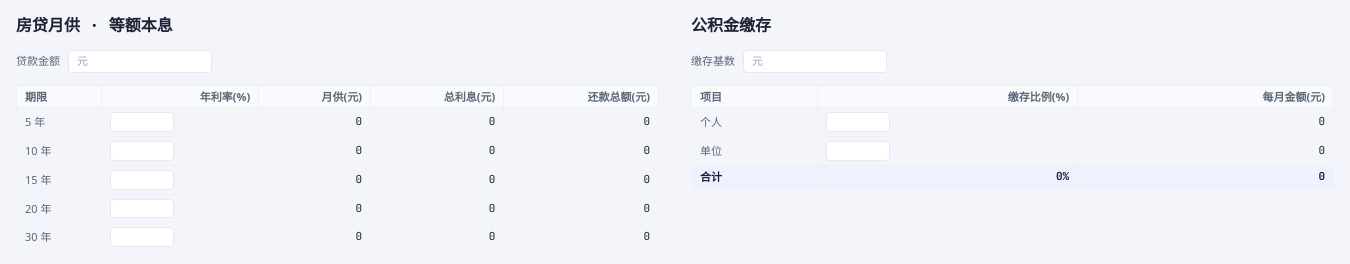
CalculatorView › 改公积金基数与比例 → 个人/单位/合计与比例合计更新
Type "10000" into the number field with test id "calc-fund-base" at (815, 61), box [743,50,887,72]
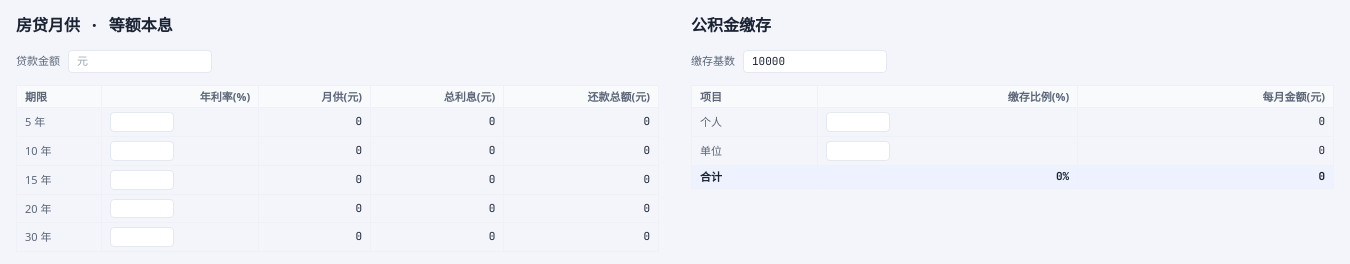
Type "12" into the number field with test id "calc-personal-rate" at (858, 122), box [826,112,890,132]
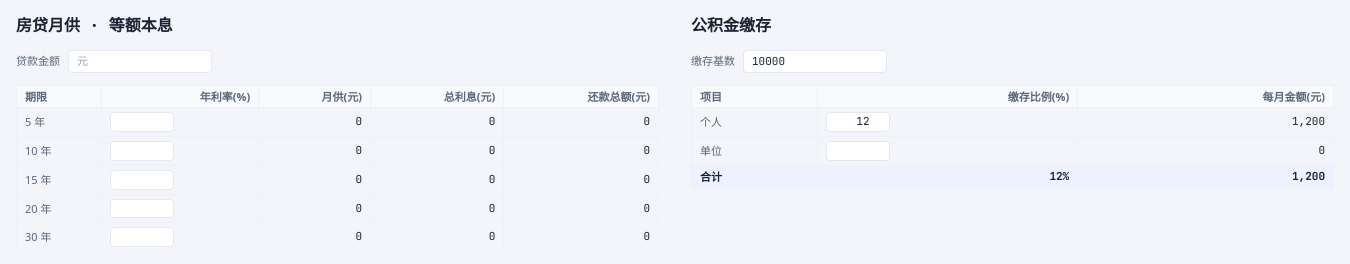
Type "12" into the number field with test id "calc-employer-rate" at (858, 151), box [826,141,890,161]
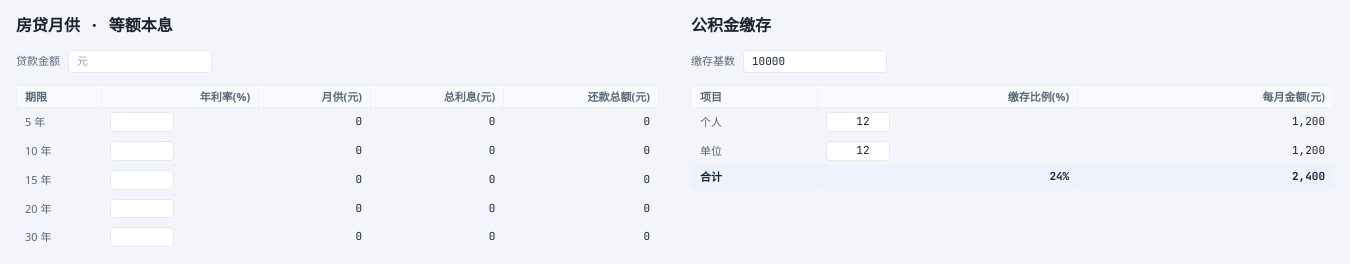
Now the text "1,200" is shown, box [1078,108,1334,137]
Now the text "2,400" is shown, box [1078,165,1334,188]
Now the text "24%" is shown, box [817,165,1078,188]
